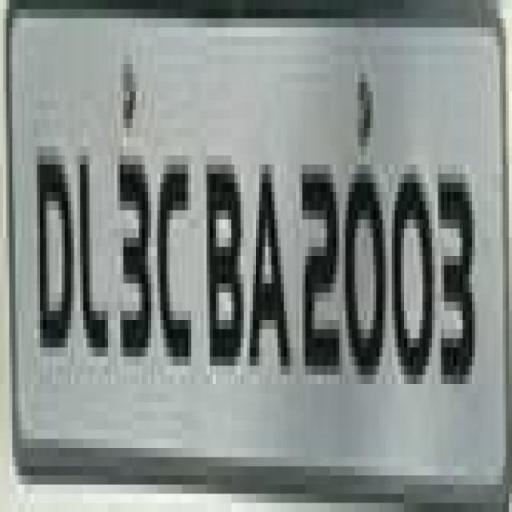number plate: (15, 18, 512, 485)
